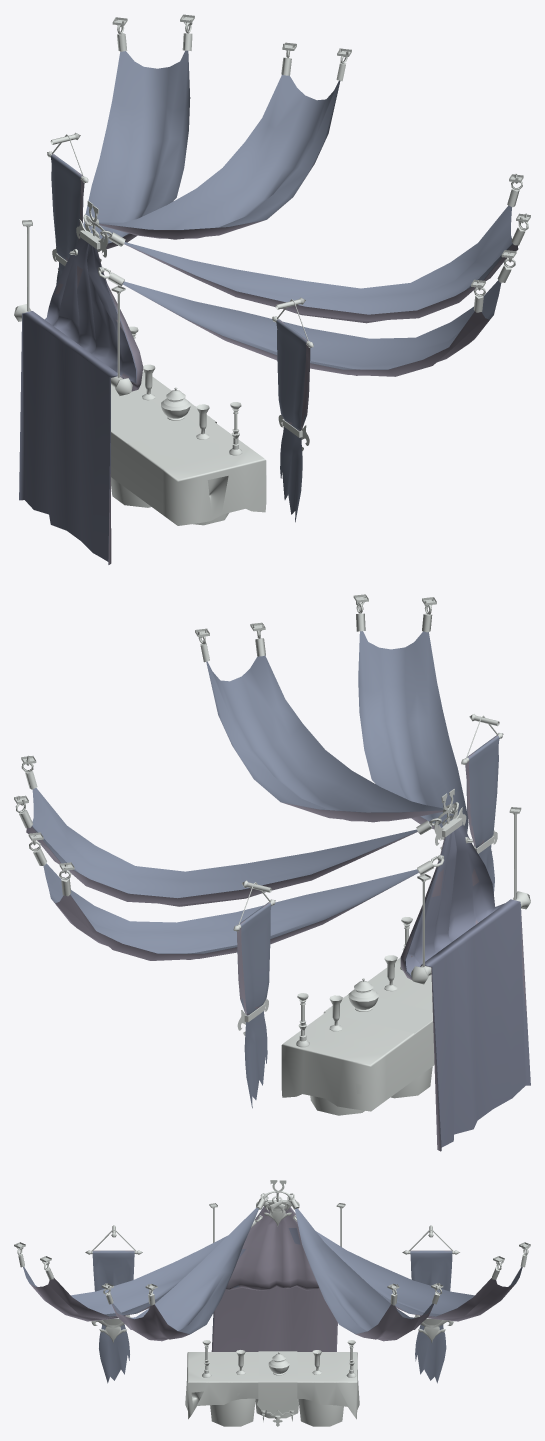
The picture shows the model from 3 angles, top to bottom: view 1: azimuth 30°, elevation 25°; view 2: azimuth 150°, elevation 25°; view 3: azimuth 270°, elevation 25°; orthographic projection. The views are drawn at different scales.
Parts seen in each view (by area): view 1: G:\FFXIV-MapTools\exports\r2f1\bg\ex1\01_roc_r2\fld\r2f1\bgp (×2); view 2: G:\FFXIV-MapTools\exports\r2f1\bg\ex1\01_roc_r2\fld\r2f1\bgp (×2); view 3: G:\FFXIV-MapTools\exports\r2f1\bg\ex1\01_roc_r2\fld\r2f1\bgp (×2).
Part boxes in pixels (left/top/right/bottom): G:\FFXIV-MapTools\exports\r2f1\bg\ex1\01_roc_r2\fld\r2f1\bgp (×2): left=14, top=14, right=530, bottom=564; G:\FFXIV-MapTools\exports\r2f1\bg\ex1\01_roc_r2\fld\r2f1\bgp (×2): left=14, top=594, right=530, bottom=1151; G:\FFXIV-MapTools\exports\r2f1\bg\ex1\01_roc_r2\fld\r2f1\bgp (×2): left=14, top=1180, right=530, bottom=1426.
Size of the model in its own units: 7.53 by 6.39 by 12.79.
